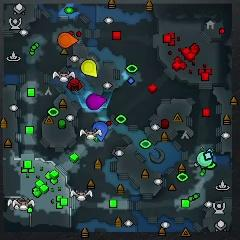p1: (93, 122, 108, 142)
p2: (197, 152, 211, 167)
p3: (87, 93, 106, 110)
p4: (81, 59, 98, 78)
p5: (57, 32, 78, 49)
